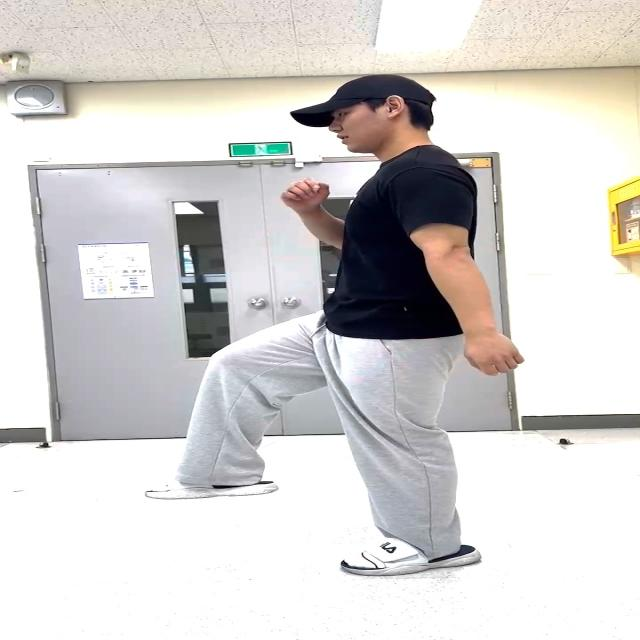leg: (172, 328, 329, 494)
